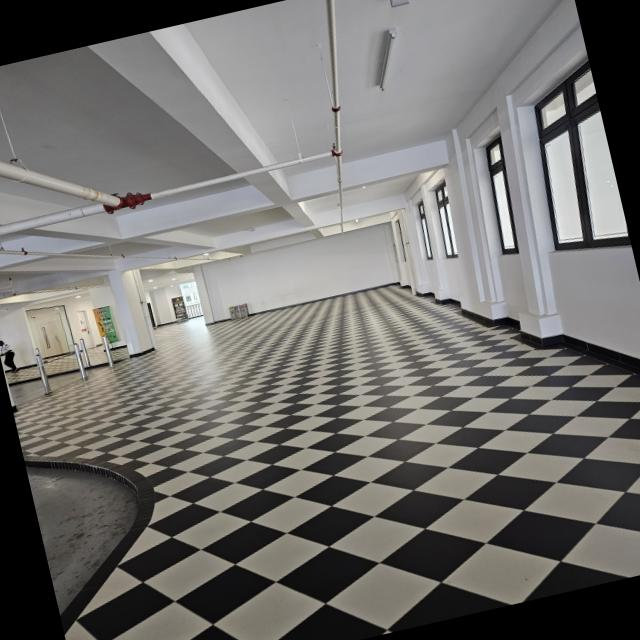footpath: (69, 298, 503, 640)
